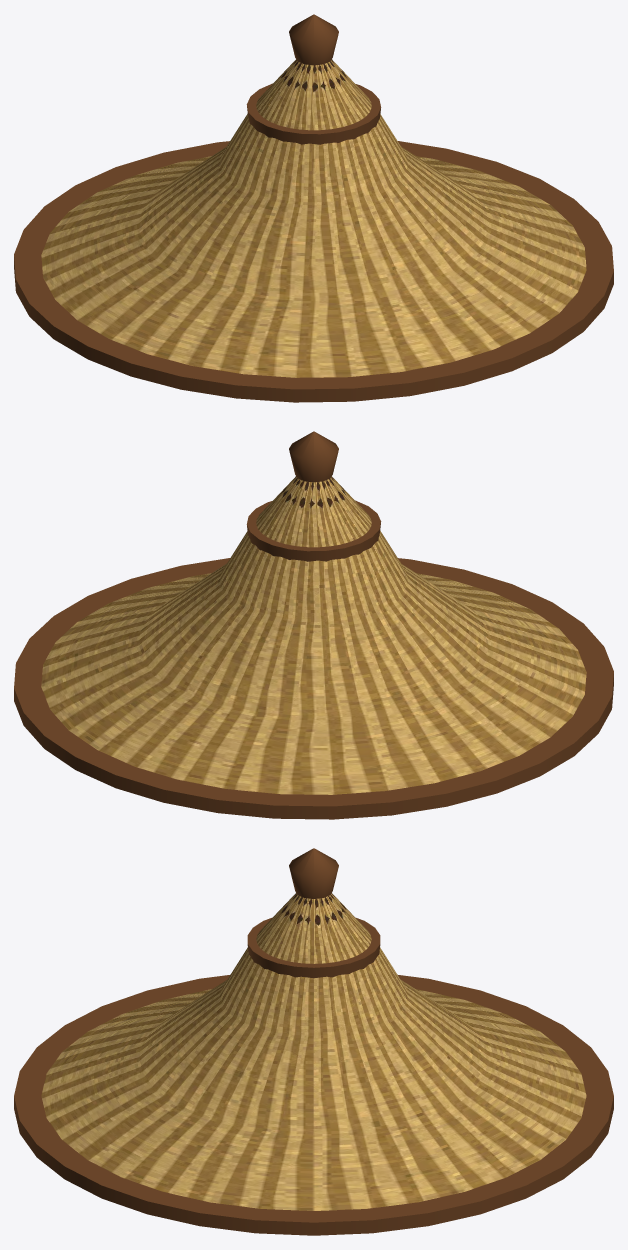
Rendered from chapeau-sapone.glb.
3 views of the same model, one above another, from view 1: azimuth 30°, elevation 25°; view 2: azimuth 150°, elevation 25°; view 3: azimuth 270°, elevation 25° (orthographic).
Parts seen in each view (by area): view 1: chapeau-sapone; view 2: chapeau-sapone; view 3: chapeau-sapone.
Boxes of the visible parts, box(x1,y1,x2,y2) form: chapeau-sapone: box(14, 14, 613, 402); chapeau-sapone: box(14, 431, 613, 819); chapeau-sapone: box(14, 848, 613, 1235).
Bounding box in the file's own units: 0.956 × 0.458 × 0.956.
2 materials, 1 textured.
